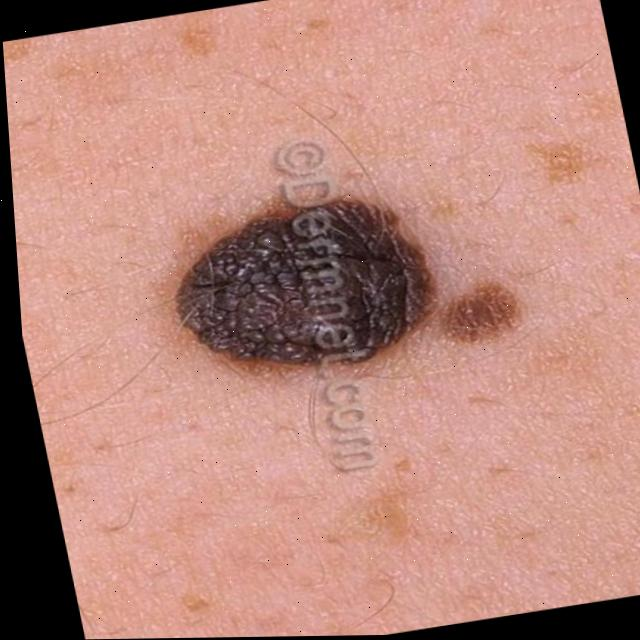Eczema: (168, 170, 480, 397)
